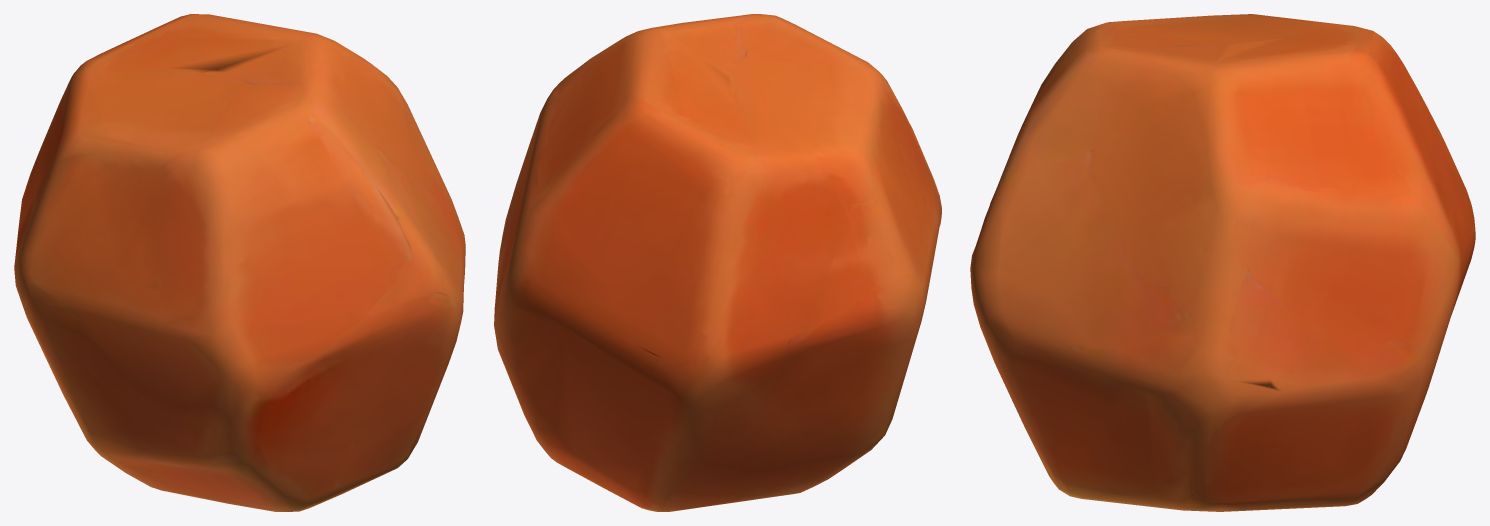
3 renders of one model, left to right at view 1: azimuth 30°, elevation 25°; view 2: azimuth 150°, elevation 25°; view 3: azimuth 270°, elevation 25°, orthographic. The views are drawn at different scales.
Visible parts, largest first — view 1: material; view 2: material; view 3: material.
Boxes of the visible parts, x1,y1,x2,y2 form: material: (14, 14, 465, 511); material: (494, 14, 941, 511); material: (970, 14, 1475, 511).
Size of the model in its own units: 1 by 0.958 by 0.9651.
Materials: 1 (1 with a texture image).
